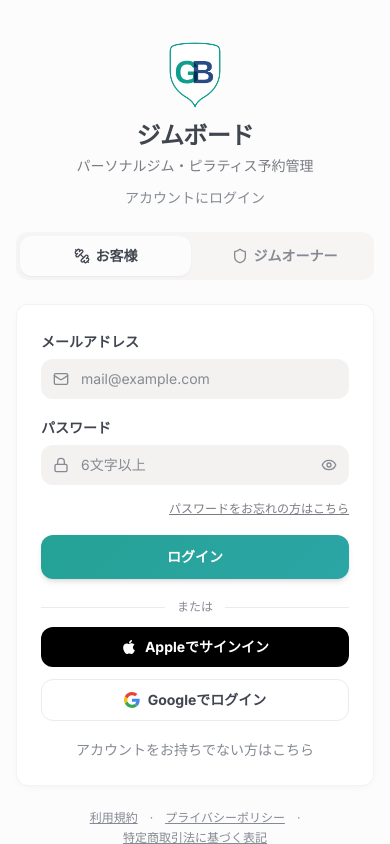
既に登録済みのメールアドレスで登録しようとしたとき › identities が空配列（確認済み・偽装レスポンス）なら「確認メールを送信しました」と言わない
Click the button "アカウントをお持ちでない方はこちら": click(195, 750) x1=76 y1=740 x2=314 y2=760
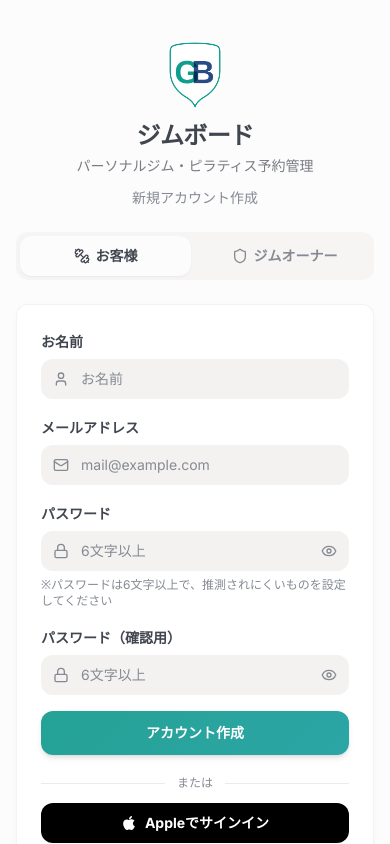
In the field labelled "メールアドレス": (195, 465) x1=41 y1=445 x2=349 y2=485, type "tester@example.com"
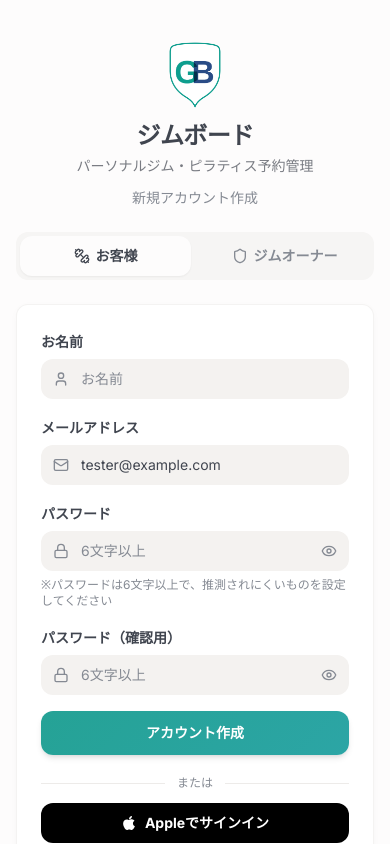
In the password field labelled "パスワード": (195, 551) x1=41 y1=531 x2=349 y2=571, type "abcdef12"
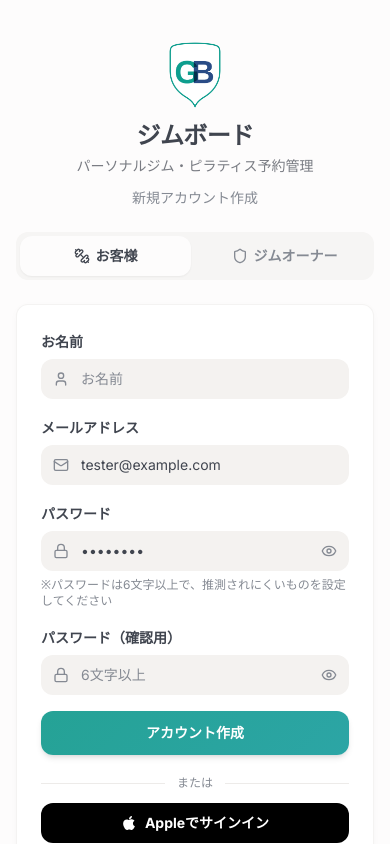
In the password field labelled "パスワード（確認用）": (195, 675) x1=41 y1=655 x2=349 y2=695, type "abcdef12"
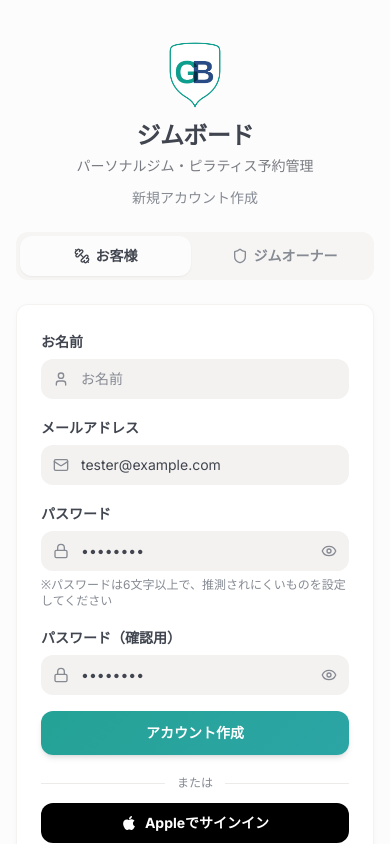
Click the button "アカウント作成": click(195, 733) x1=41 y1=711 x2=349 y2=755
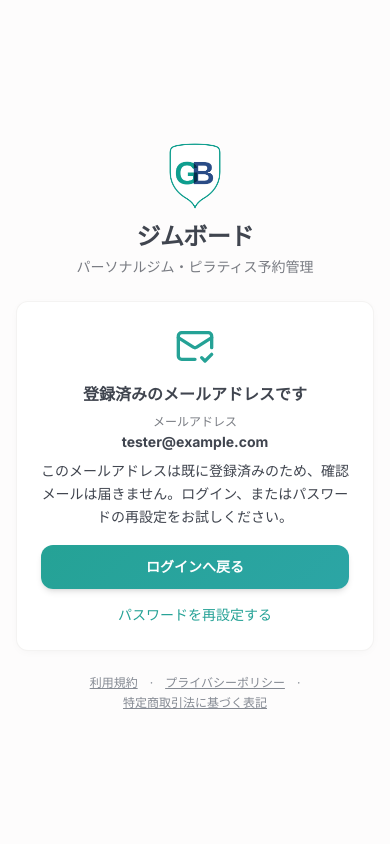
Now the heading "登録済みのメールアドレスです" is shown, box x1=83 y1=384 x2=307 y2=404
Now the button "パスワードを再設定する" is shown, box x1=118 y1=605 x2=272 y2=625
